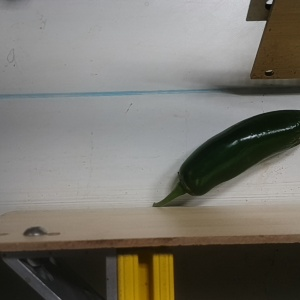Cut Point: (170, 165, 206, 201)
